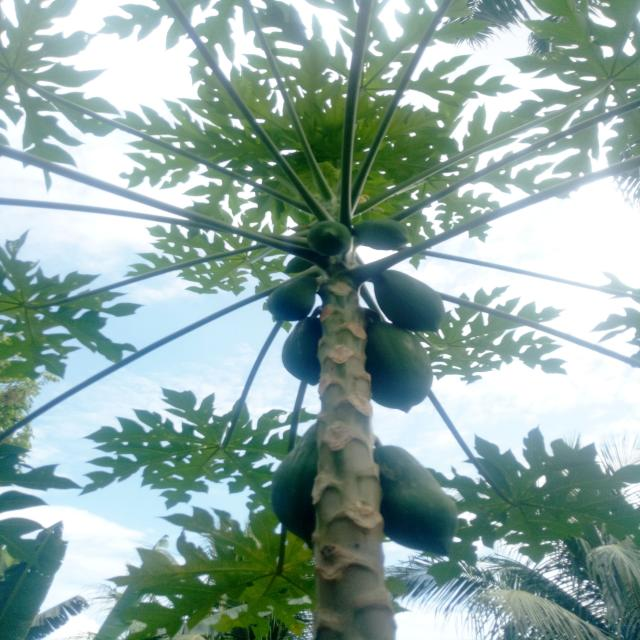Pepaya unrippen: (378, 443, 454, 553), (273, 429, 336, 534), (364, 330, 439, 413), (369, 272, 446, 335), (283, 321, 335, 385)
